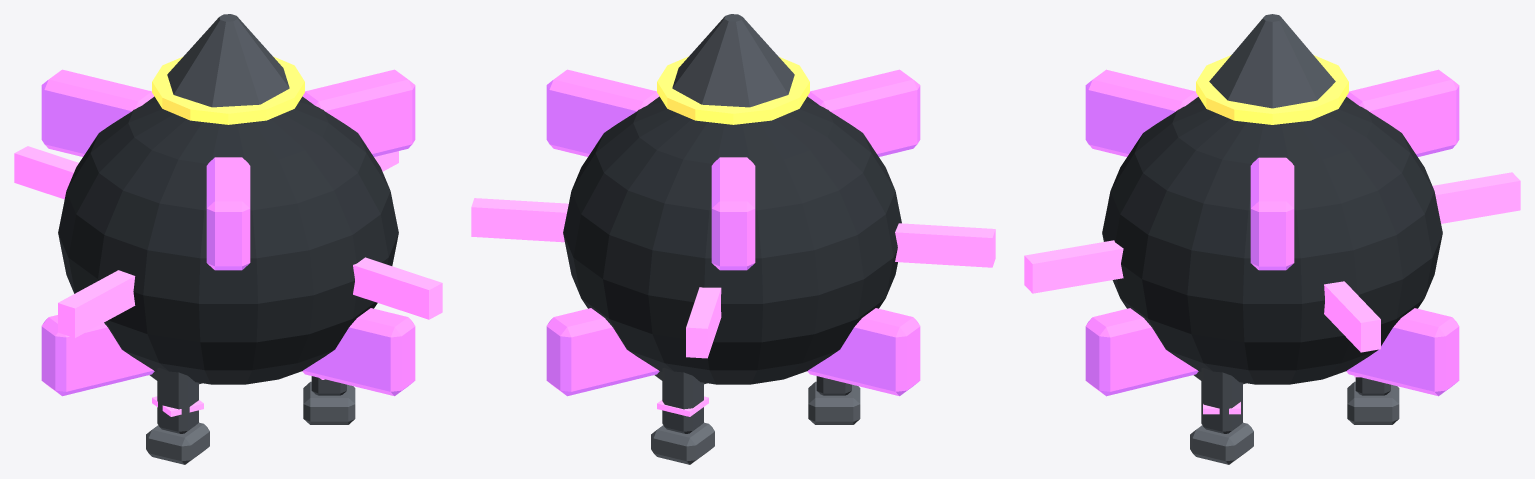
The model's file is Modle_Boss_ForgeCore.fbx.
3 renders of one model, left to right at view 1: azimuth 30°, elevation 25°; view 2: azimuth 150°, elevation 25°; view 3: azimuth 270°, elevation 25°, orthographic.
Parts seen in each view (by area): view 1: Modle_Boss_ForgeCore; view 2: Modle_Boss_ForgeCore; view 3: Modle_Boss_ForgeCore.
Boxes of the visible parts, <box> form: Modle_Boss_ForgeCore: <box>14,14,442,464</box>; Modle_Boss_ForgeCore: <box>471,14,995,464</box>; Modle_Boss_ForgeCore: <box>1024,14,1520,464</box>.
Bounding box in the file's own units: 3.64 × 3.23 × 3.64.
